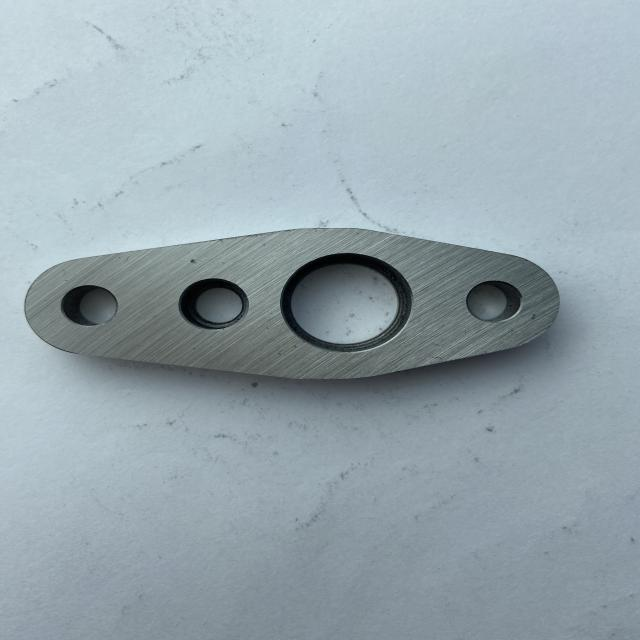lines: (528, 305, 552, 323), (184, 255, 206, 268)
